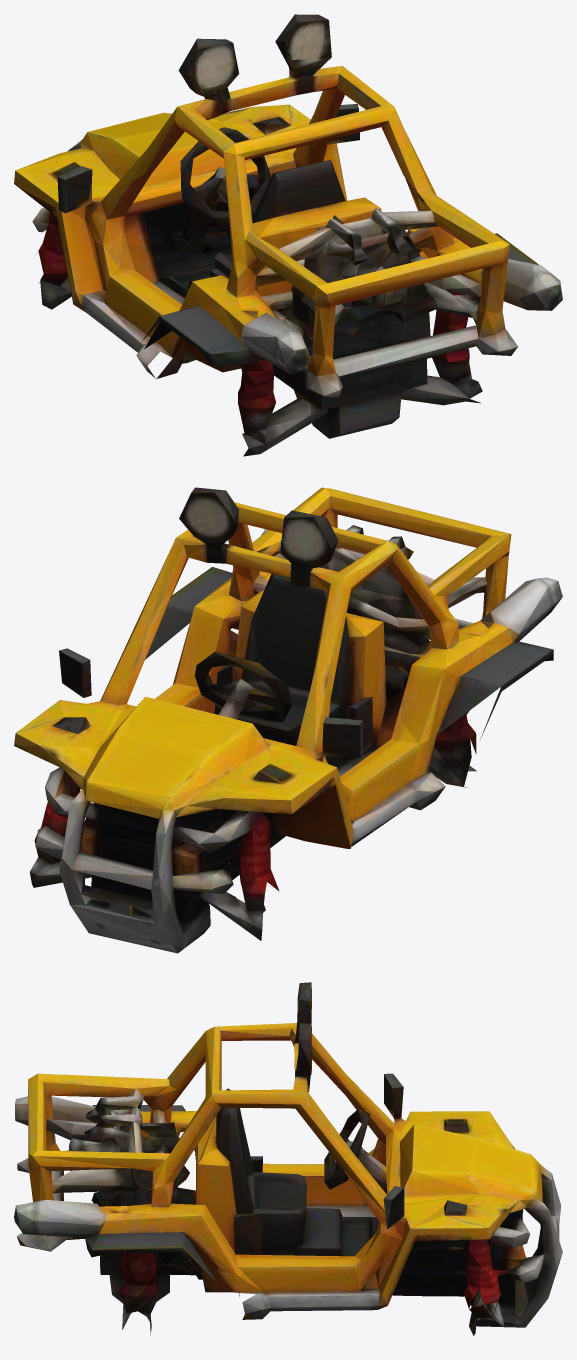
Rendered from cs_v_fuoristrada.glb.
The picture shows the model from 3 angles, top to bottom: view 1: azimuth 30°, elevation 25°; view 2: azimuth 150°, elevation 25°; view 3: azimuth 270°, elevation 25°; orthographic projection. The views are drawn at different scales.
Parts seen in each view (by area): view 1: v_fuoristrada; view 2: v_fuoristrada; view 3: v_fuoristrada.
Boxes of the visible parts, x1=… form: v_fuoristrada: x1=14, y1=14, x2=562, y2=456; v_fuoristrada: x1=14, y1=487, x2=562, y2=953; v_fuoristrada: x1=14, y1=982, x2=562, y2=1335.
Bounding box in the file's own units: 2.05 × 2.01 × 3.3.
1 material, 1 textured.
